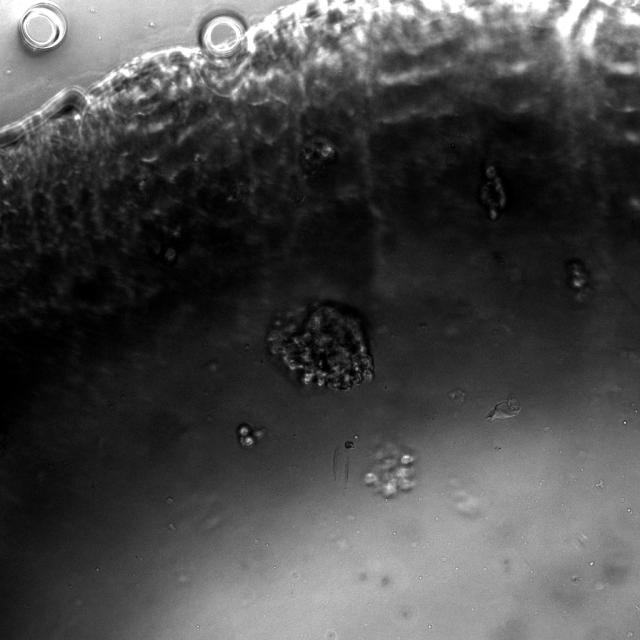organoid: (267, 301, 373, 391), (364, 445, 415, 498), (479, 166, 506, 220), (565, 259, 591, 299), (236, 423, 265, 446)
